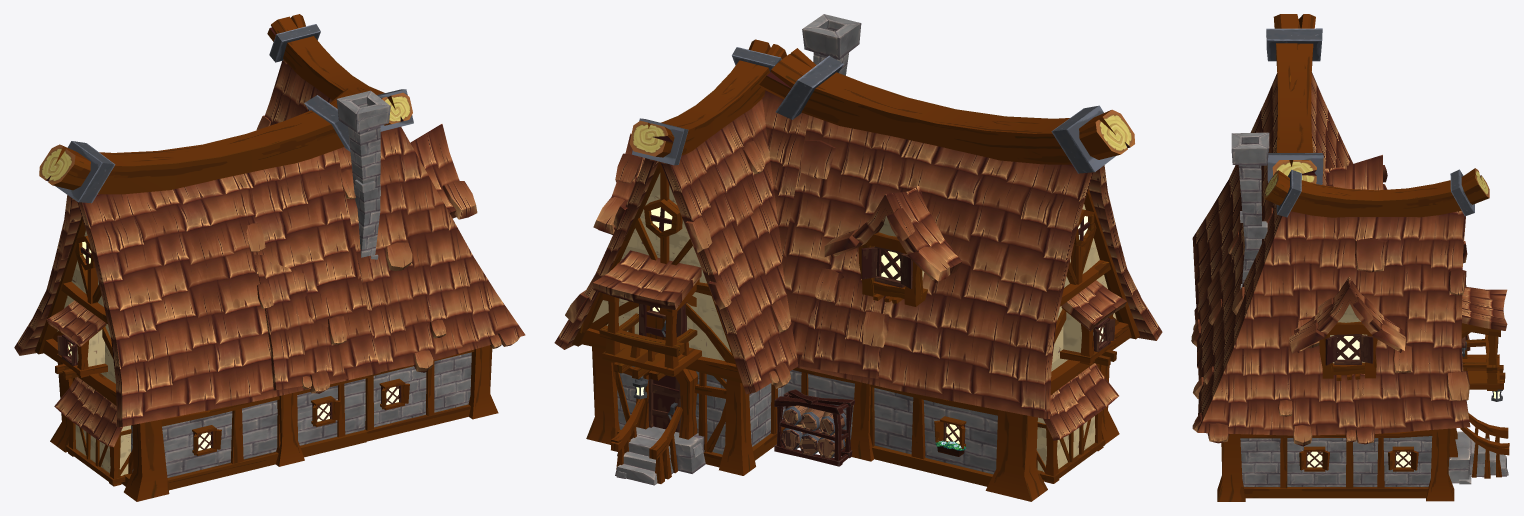
Rendered from Building4.fbx.
3 renders of one model, left to right at view 1: azimuth 30°, elevation 25°; view 2: azimuth 150°, elevation 25°; view 3: azimuth 270°, elevation 25°, orthographic. The views are drawn at different scales.
Parts seen in each view (by area): view 1: SM_BLD_body_add_v03_01, SM_BLD_body_v06_01, SM_BLD_beam_big_v03_03_2, SM_BLD_beam_big_v03_03_1, SM_BLD_chimney_v02_02, SM_BLD_body_add_v01_01, SM_BLD_window_v02_01, SM_BLD_window_v04_01_2, SM_BLD_window_v08_02_5, SM_BLD_window_v08_02_8, SM_BLD_window_v08_02_4; view 2: SM_BLD_body_add_v03_01, SM_BLD_body_v06_01, SM_BLD_beam_big_v03_03_2, SM_BLD_balcony_v01_01, SM_BLD_window_v04_01_1, SM_BLD_beam_big_v03_03_1, SM_BLD_body_add_v01_01, SM_PROP_barrel_07, SM_BLD_stairs_v01_01, SM_BLD_window_v02_01, SM_BLD_door_v03_01, SM_BLD_chimney_v02_02 (+3 smaller); view 3: SM_BLD_body_v06_01, SM_BLD_body_add_v03_01, SM_BLD_beam_big_v03_03_1, SM_BLD_beam_big_v03_03_2, SM_BLD_window_v04_01_2, SM_BLD_balcony_v01_01, SM_BLD_chimney_v02_02, SM_BLD_stairs_v01_01, SM_BLD_window_v04_01_1, SM_BLD_window_v08_02_2, SM_BLD_window_v08_02_3.
Part boxes in pixels (<box>): SM_BLD_body_add_v03_01: <box>14,149,380,501</box>; SM_BLD_body_v06_01: <box>246,60,525,466</box>; SM_BLD_beam_big_v03_03_2: <box>39,88,355,203</box>; SM_BLD_beam_big_v03_03_1: <box>267,14,413,131</box>; SM_BLD_chimney_v02_02: <box>336,90,390,259</box>; SM_BLD_body_add_v01_01: <box>54,377,131,486</box>; SM_BLD_window_v02_01: <box>46,300,107,379</box>; SM_BLD_window_v04_01_2: <box>410,124,477,219</box>; SM_BLD_window_v08_02_5: <box>379,378,409,410</box>; SM_BLD_window_v08_02_8: <box>192,425,221,455</box>; SM_BLD_window_v08_02_4: <box>311,396,340,426</box>; SM_BLD_body_add_v03_01: <box>782,115,1162,501</box>; SM_BLD_body_v06_01: <box>554,90,888,475</box>; SM_BLD_beam_big_v03_03_2: <box>759,48,1134,173</box>; SM_BLD_balcony_v01_01: <box>593,250,701,380</box>; SM_BLD_window_v04_01_1: <box>824,186,962,306</box>; SM_BLD_beam_big_v03_03_1: <box>629,39,786,165</box>; SM_BLD_body_add_v01_01: <box>1036,363,1118,483</box>; SM_PROP_barrel_07: <box>774,389,854,466</box>; SM_BLD_stairs_v01_01: <box>611,398,705,485</box>; SM_BLD_window_v02_01: <box>1060,280,1126,366</box>; SM_BLD_door_v03_01: <box>636,368,698,439</box>; SM_BLD_chimney_v02_02: <box>802,14,861,75</box>; SM_BLD_body_v06_01: <box>1191,184,1470,501</box>; SM_BLD_body_add_v03_01: <box>1192,72,1352,368</box>; SM_BLD_beam_big_v03_03_1: <box>1264,168,1489,217</box>; SM_BLD_beam_big_v03_03_2: <box>1266,14,1323,184</box>; SM_BLD_window_v04_01_2: <box>1289,276,1406,380</box>; SM_BLD_balcony_v01_01: <box>1461,286,1507,390</box>; SM_BLD_chimney_v02_02: <box>1231,132,1269,288</box>; SM_BLD_stairs_v01_01: <box>1448,413,1509,484</box>; SM_BLD_window_v04_01_1: <box>1324,155,1387,190</box>; SM_BLD_window_v08_02_2: <box>1299,446,1329,471</box>; SM_BLD_window_v08_02_3: <box>1388,446,1418,471</box>.
Bounding box in the file's own units: 1730 × 1249 × 1165.
